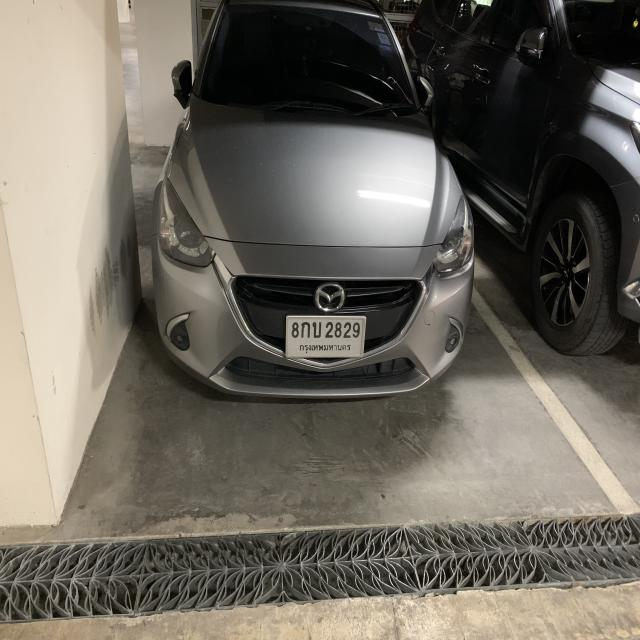license_plate: (285, 314, 364, 362)
